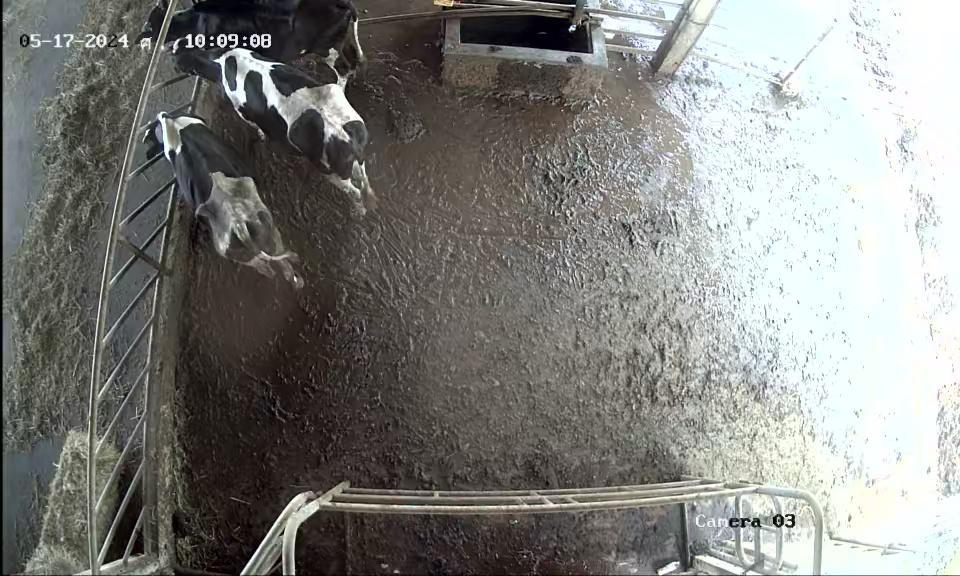eat: (117, 103, 209, 168), (117, 0, 215, 52)
stand: (172, 33, 384, 218)
